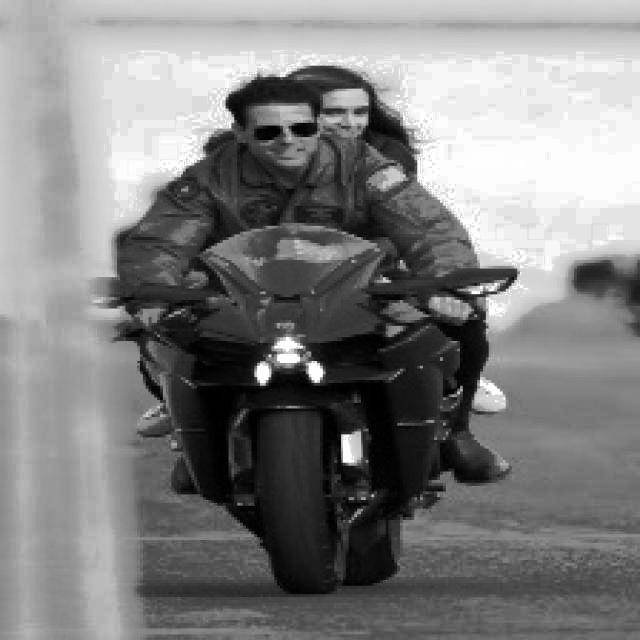Bike: (78, 234, 502, 596)
